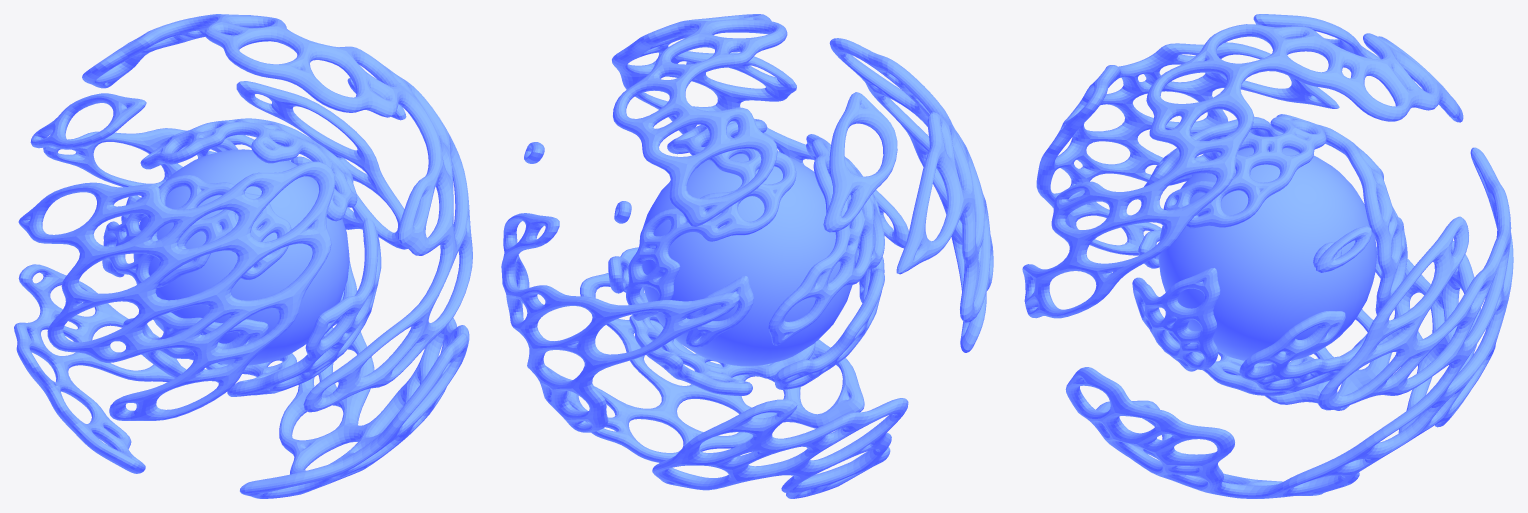
Rendered from planet.fbx.
3 renders of one model, left to right at view 1: azimuth 30°, elevation 25°; view 2: azimuth 150°, elevation 25°; view 3: azimuth 270°, elevation 25°, orthographic.
Parts seen in each view (by area): view 1: Plane, Sphere; view 2: Plane, Sphere; view 3: Plane, Sphere.
Part boxes in pixels (x1,y1,x2,y2): Plane: (14, 14, 472, 498); Sphere: (133, 149, 349, 365); Plane: (501, 14, 993, 498); Sphere: (642, 154, 855, 366); Plane: (1022, 14, 1513, 498); Sphere: (1158, 148, 1377, 363).
Size of the model in its own units: 337 by 341 by 347.
